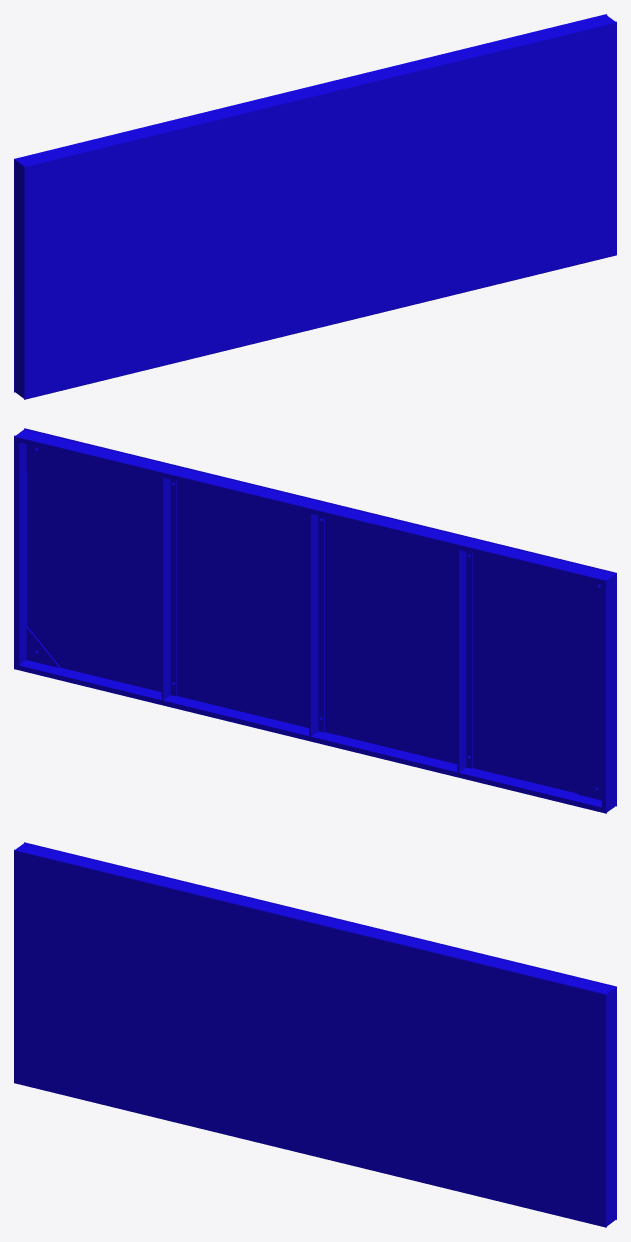
The model's file is Formwork_low.fbx.
3 renders of one model, top to bottom at view 1: azimuth 30°, elevation 25°; view 2: azimuth 150°, elevation 25°; view 3: azimuth 330°, elevation 25°, orthographic.
Visible parts, largest first — view 1: Formwork_low; view 2: Formwork_low; view 3: Formwork_low.
Part boxes in pixels (bbox=[...]): Formwork_low: bbox=[14, 14, 616, 399]; Formwork_low: bbox=[14, 428, 616, 813]; Formwork_low: bbox=[14, 842, 616, 1227].
Bounding box in the file's own units: 1603 × 603 × 51.23.
